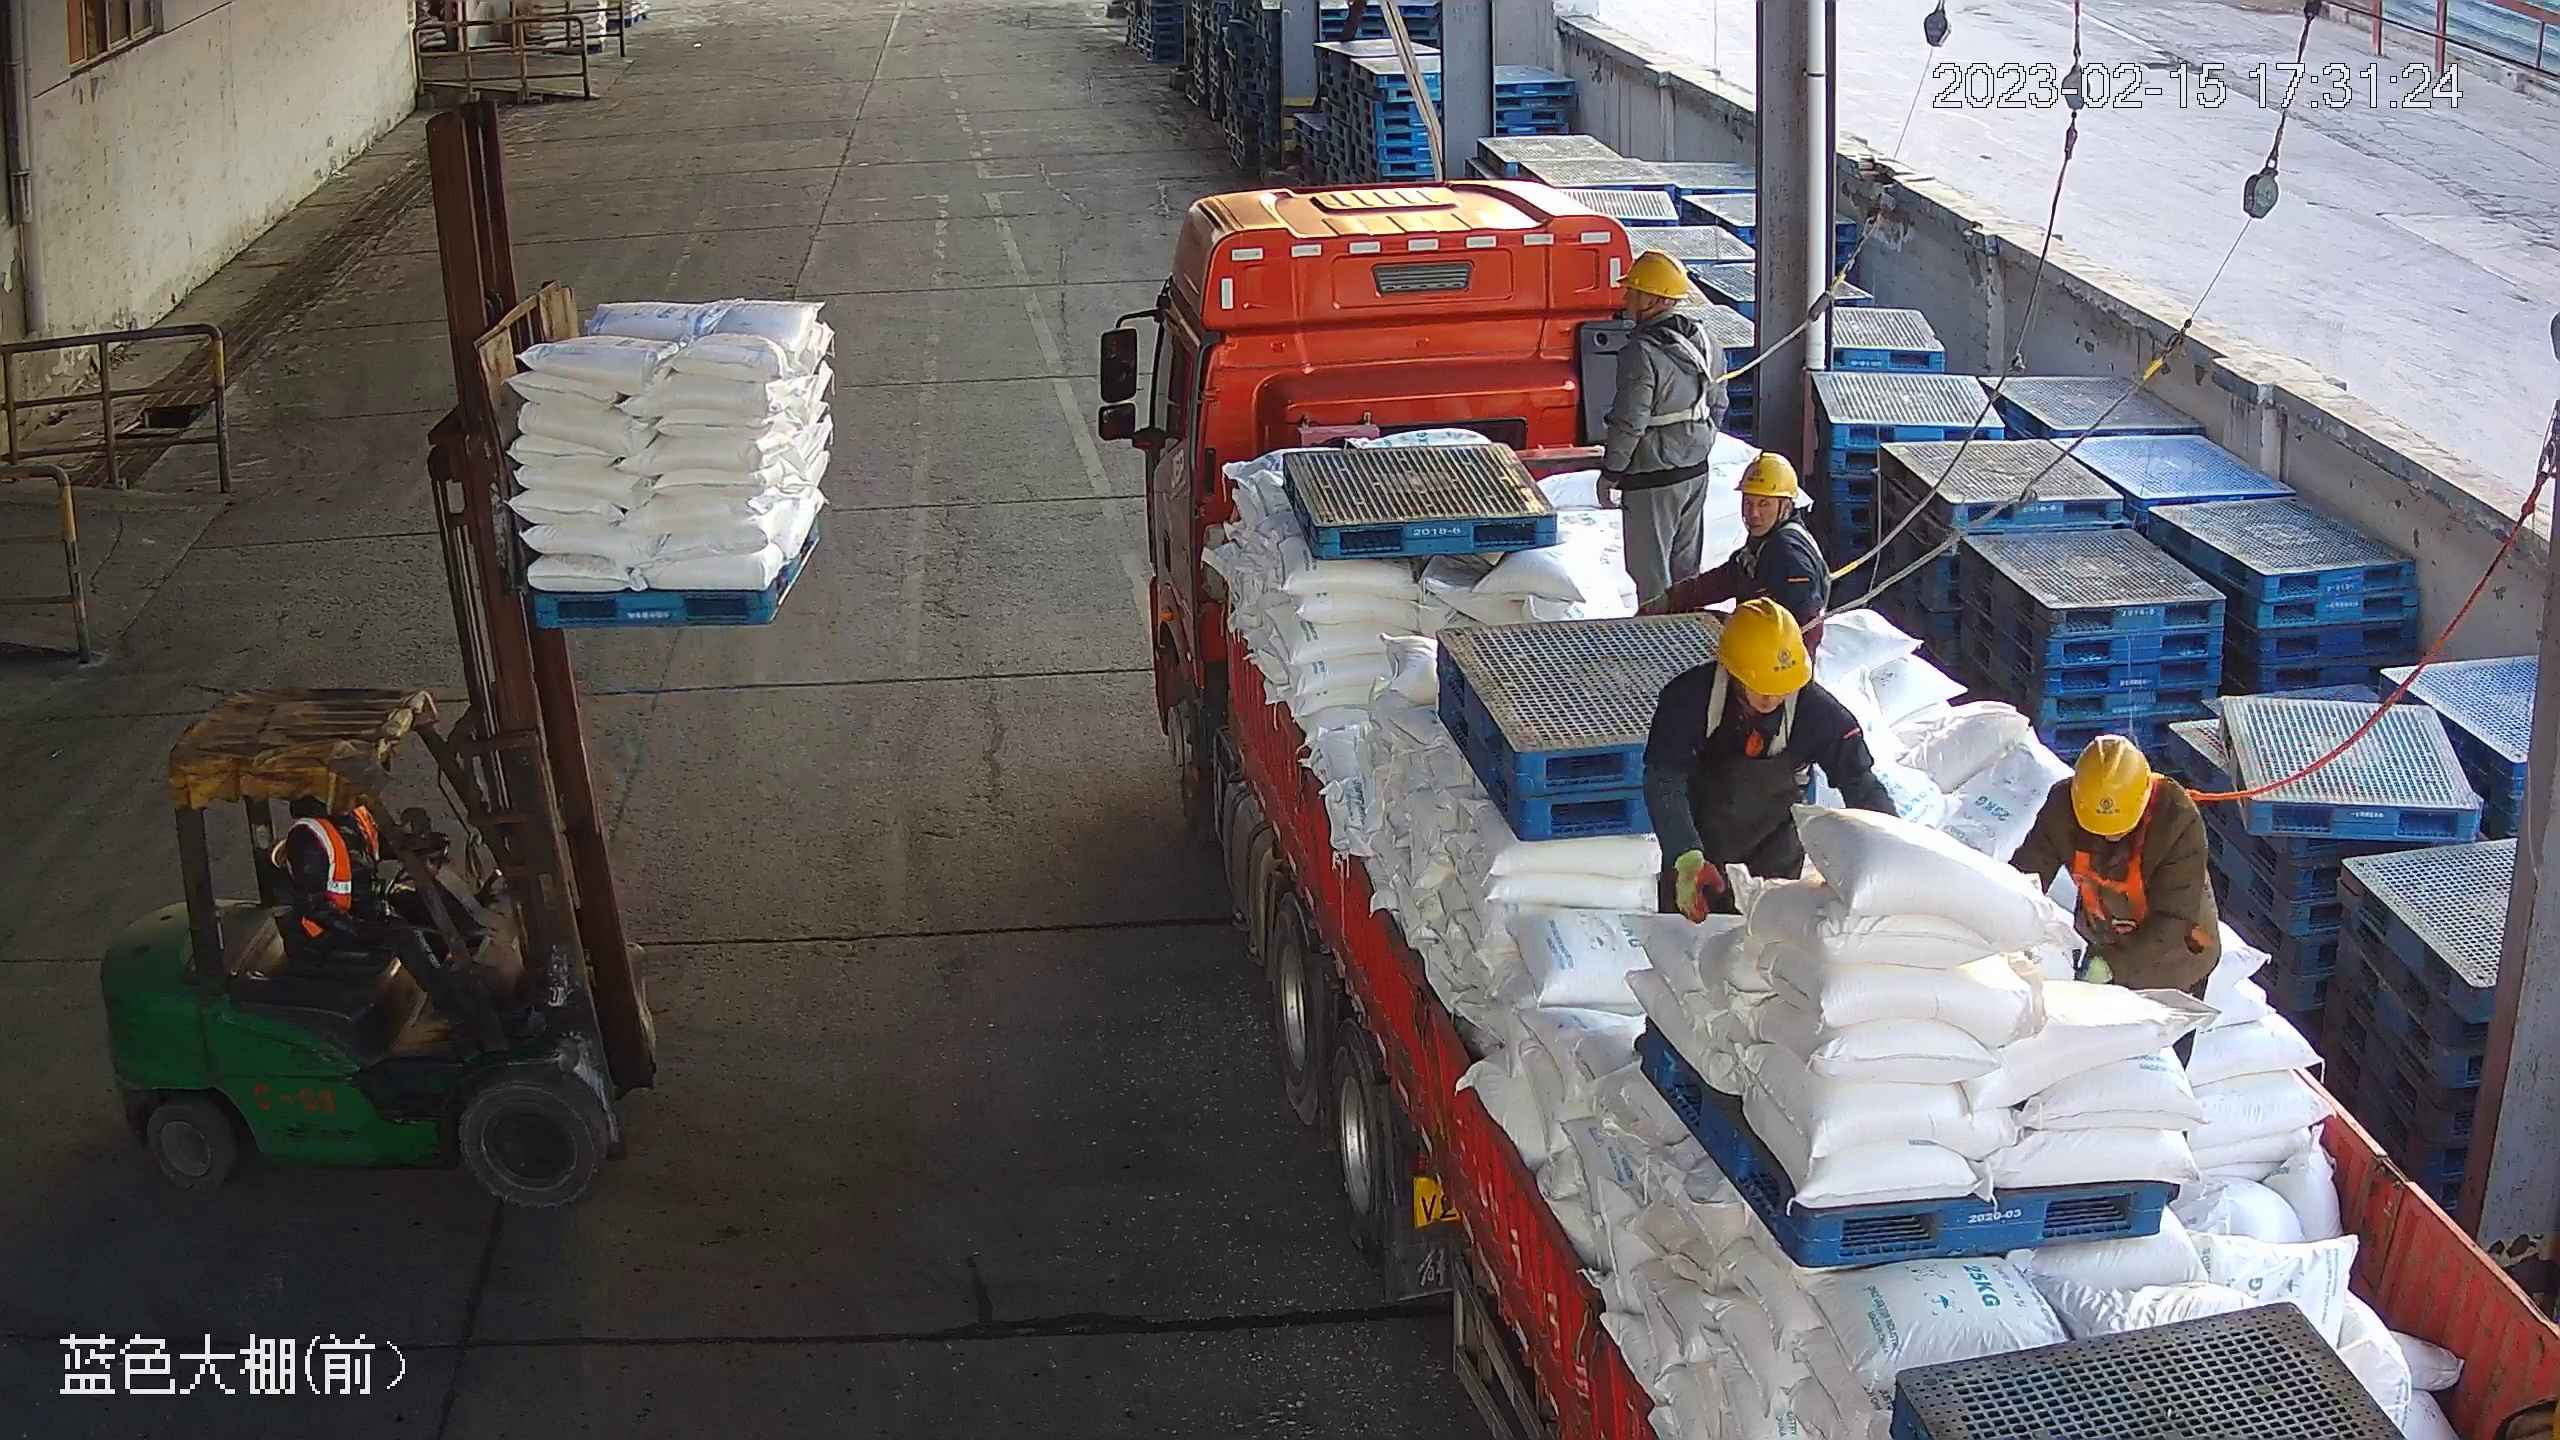belt: (2064, 772, 2218, 936), (1618, 314, 1746, 431), (1692, 655, 1822, 760), (1722, 521, 1863, 596)
head: (1646, 595, 1864, 738), (2041, 731, 2209, 852), (1727, 451, 1832, 585), (1615, 248, 1729, 365)
helmet: (1717, 595, 1815, 697), (2067, 732, 2152, 837), (1623, 248, 1690, 300), (1733, 451, 1800, 499)
people: (1638, 596, 1902, 925), (2007, 731, 2224, 1074), (1594, 248, 1732, 615)
truck: (1146, 178, 2560, 1440)
